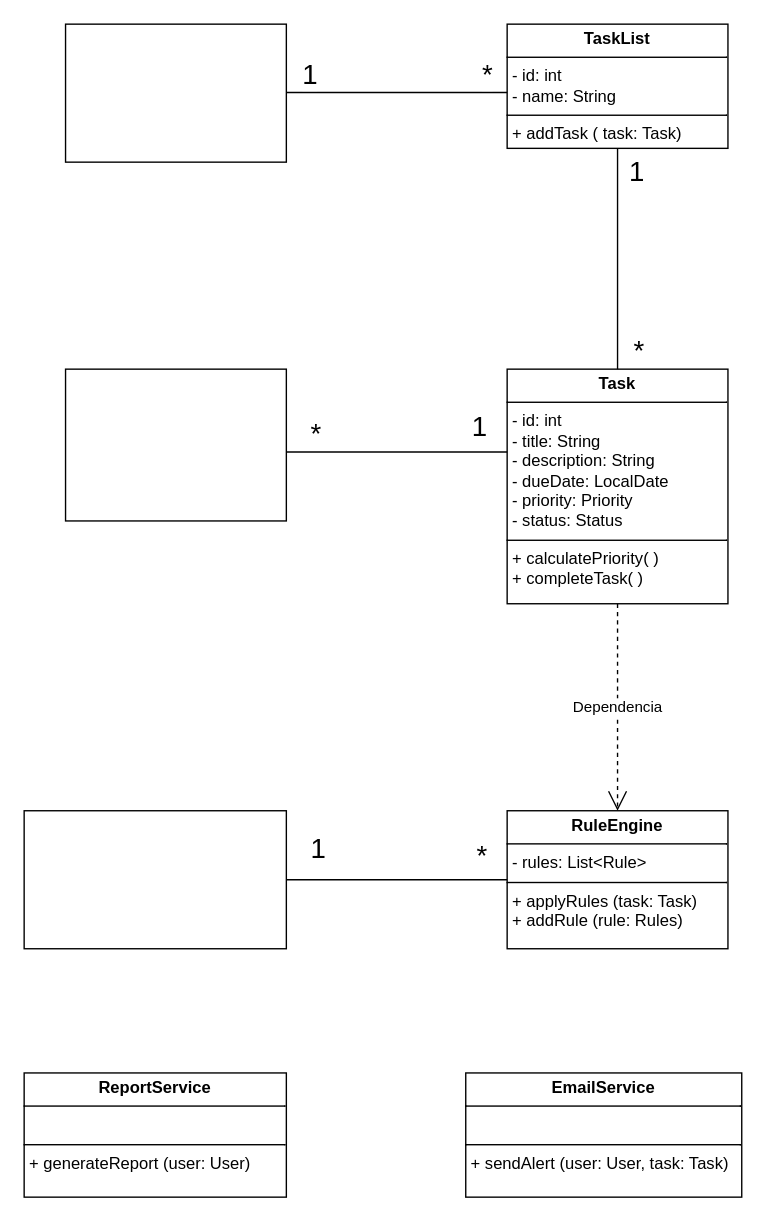
Image size: 766x1221. Some labels were removed from this diagram. The shapes that lost their labels are listed below. From the top down, each one's centre as x and y in pixels, then its label:
At pixel 175 92: "User - id: int - name: String - email: String".
At pixel 175 444: "SubTask -id: int -title: String -status: Status + completeSubTask( )".
At pixel 154 879: "<<Interface>> Rules + evaluate (task: Task)".
